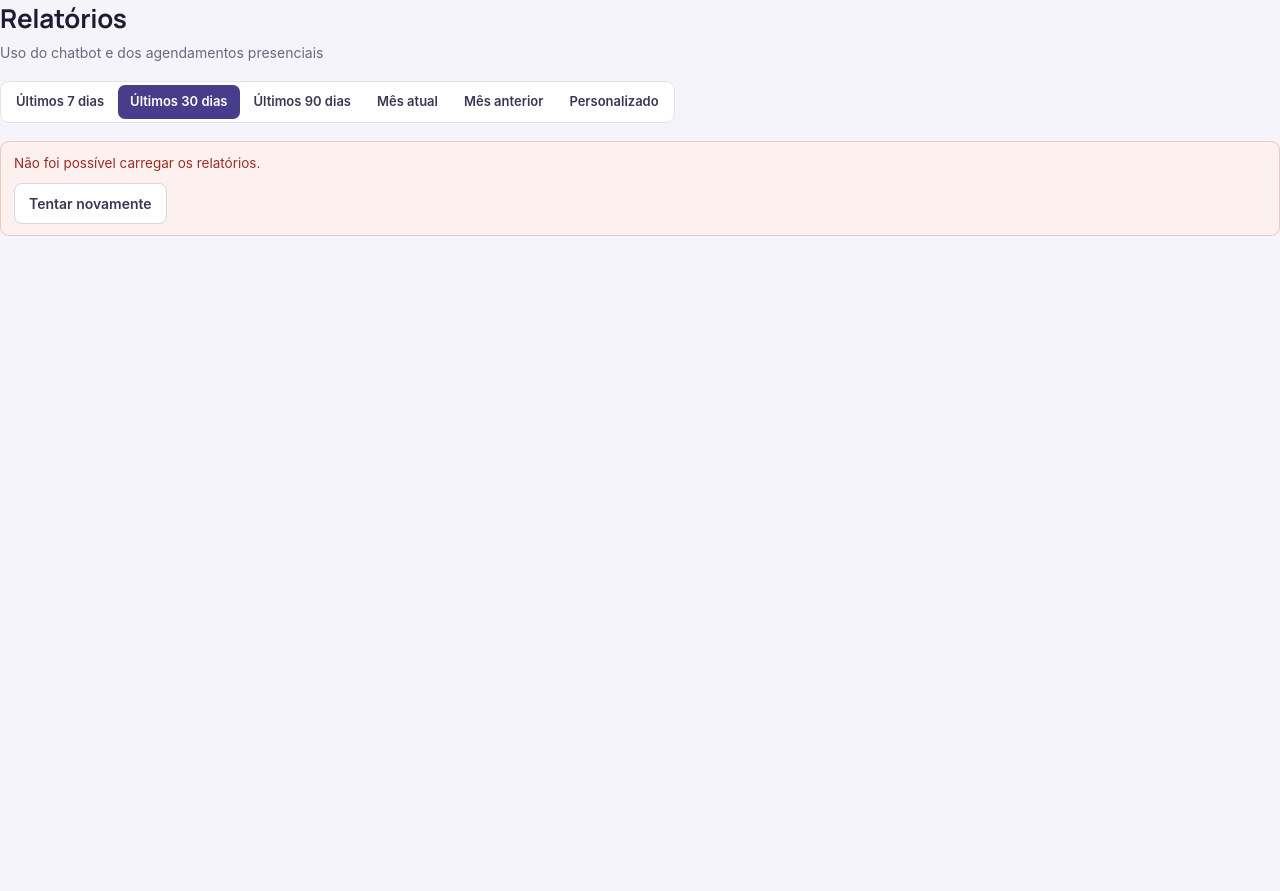
Test: Reports: estados › tentar novamente consulta de novo e volta as seções
Expected: the message "Não foi possível carregar os relatórios." is shown, [14,152,260,173]
Click the button "Tentar novamente" at [90, 203], box [14,183,167,224]
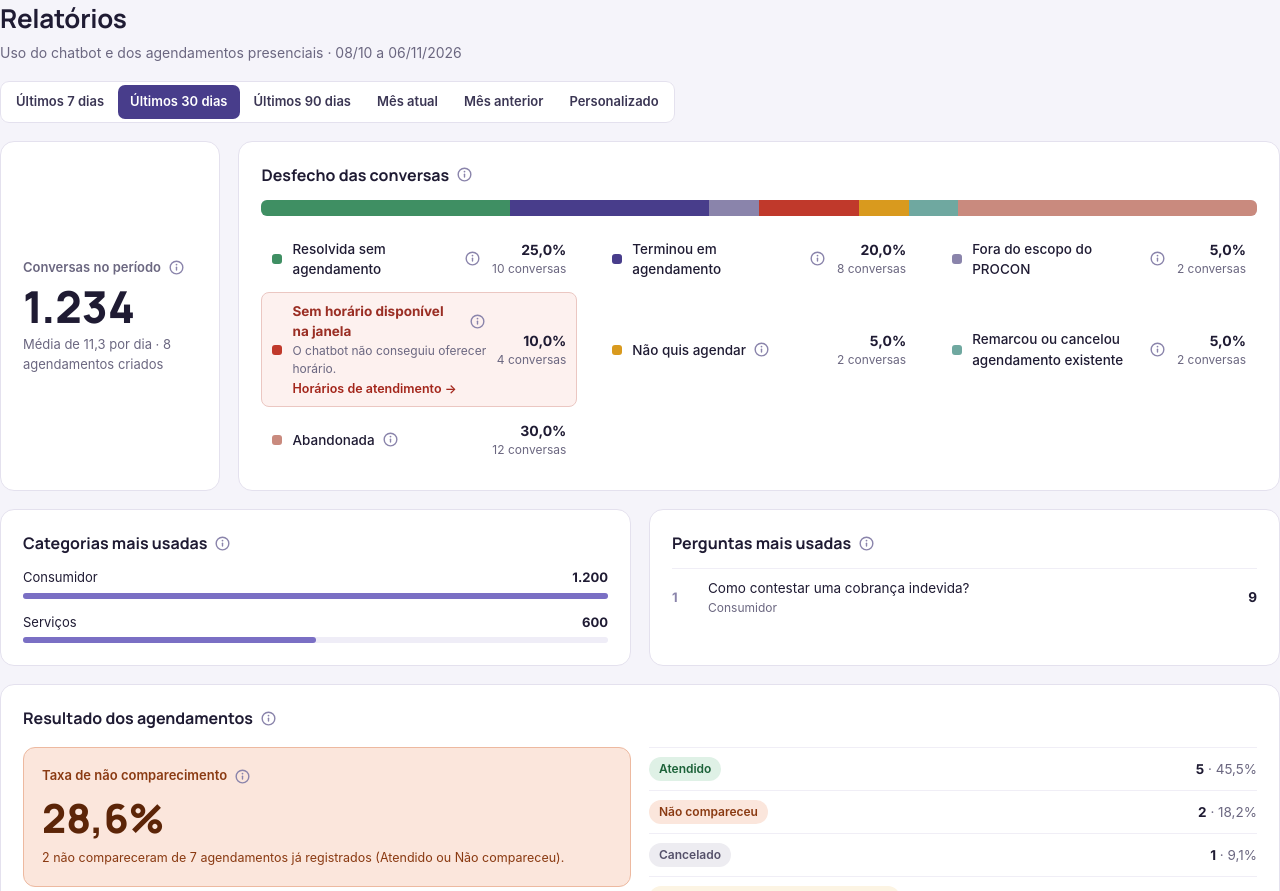
Result: the heading "Desfecho das conversas" is shown at [262,164,474,186]
Result: the message "Não foi possível carregar os relatórios." is gone
